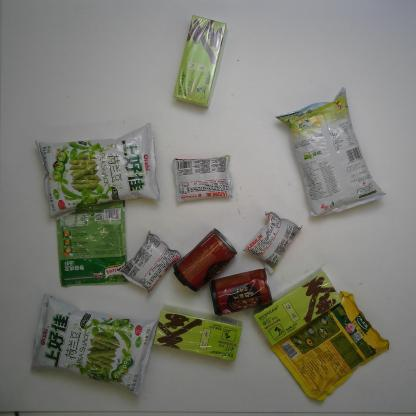Canned Food: (172, 226, 238, 294), (207, 265, 274, 318)
Dessert: (116, 228, 182, 295), (242, 209, 304, 278), (171, 153, 236, 204)
Instant Drink: (252, 265, 342, 348), (151, 303, 244, 364), (172, 13, 229, 110)
Puffed Food: (274, 84, 389, 219), (27, 291, 161, 399), (33, 121, 163, 218)
Seasoner: (266, 289, 391, 403), (53, 198, 130, 288)
